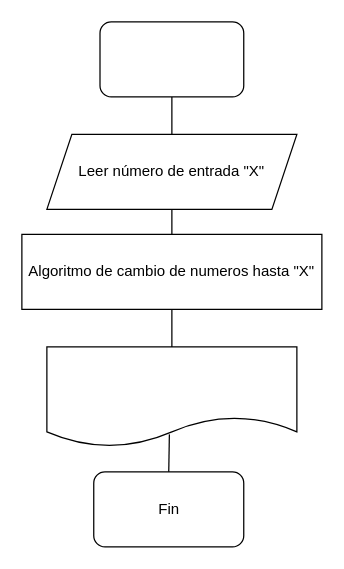
The diagram is 344 pixels wide and 569 high, and some of its shapes have lost their labels. Each missing label, with the centre of its shape:
"Inicio" goes at (171,59).
"Mostrar resultado" goes at (171,396).
